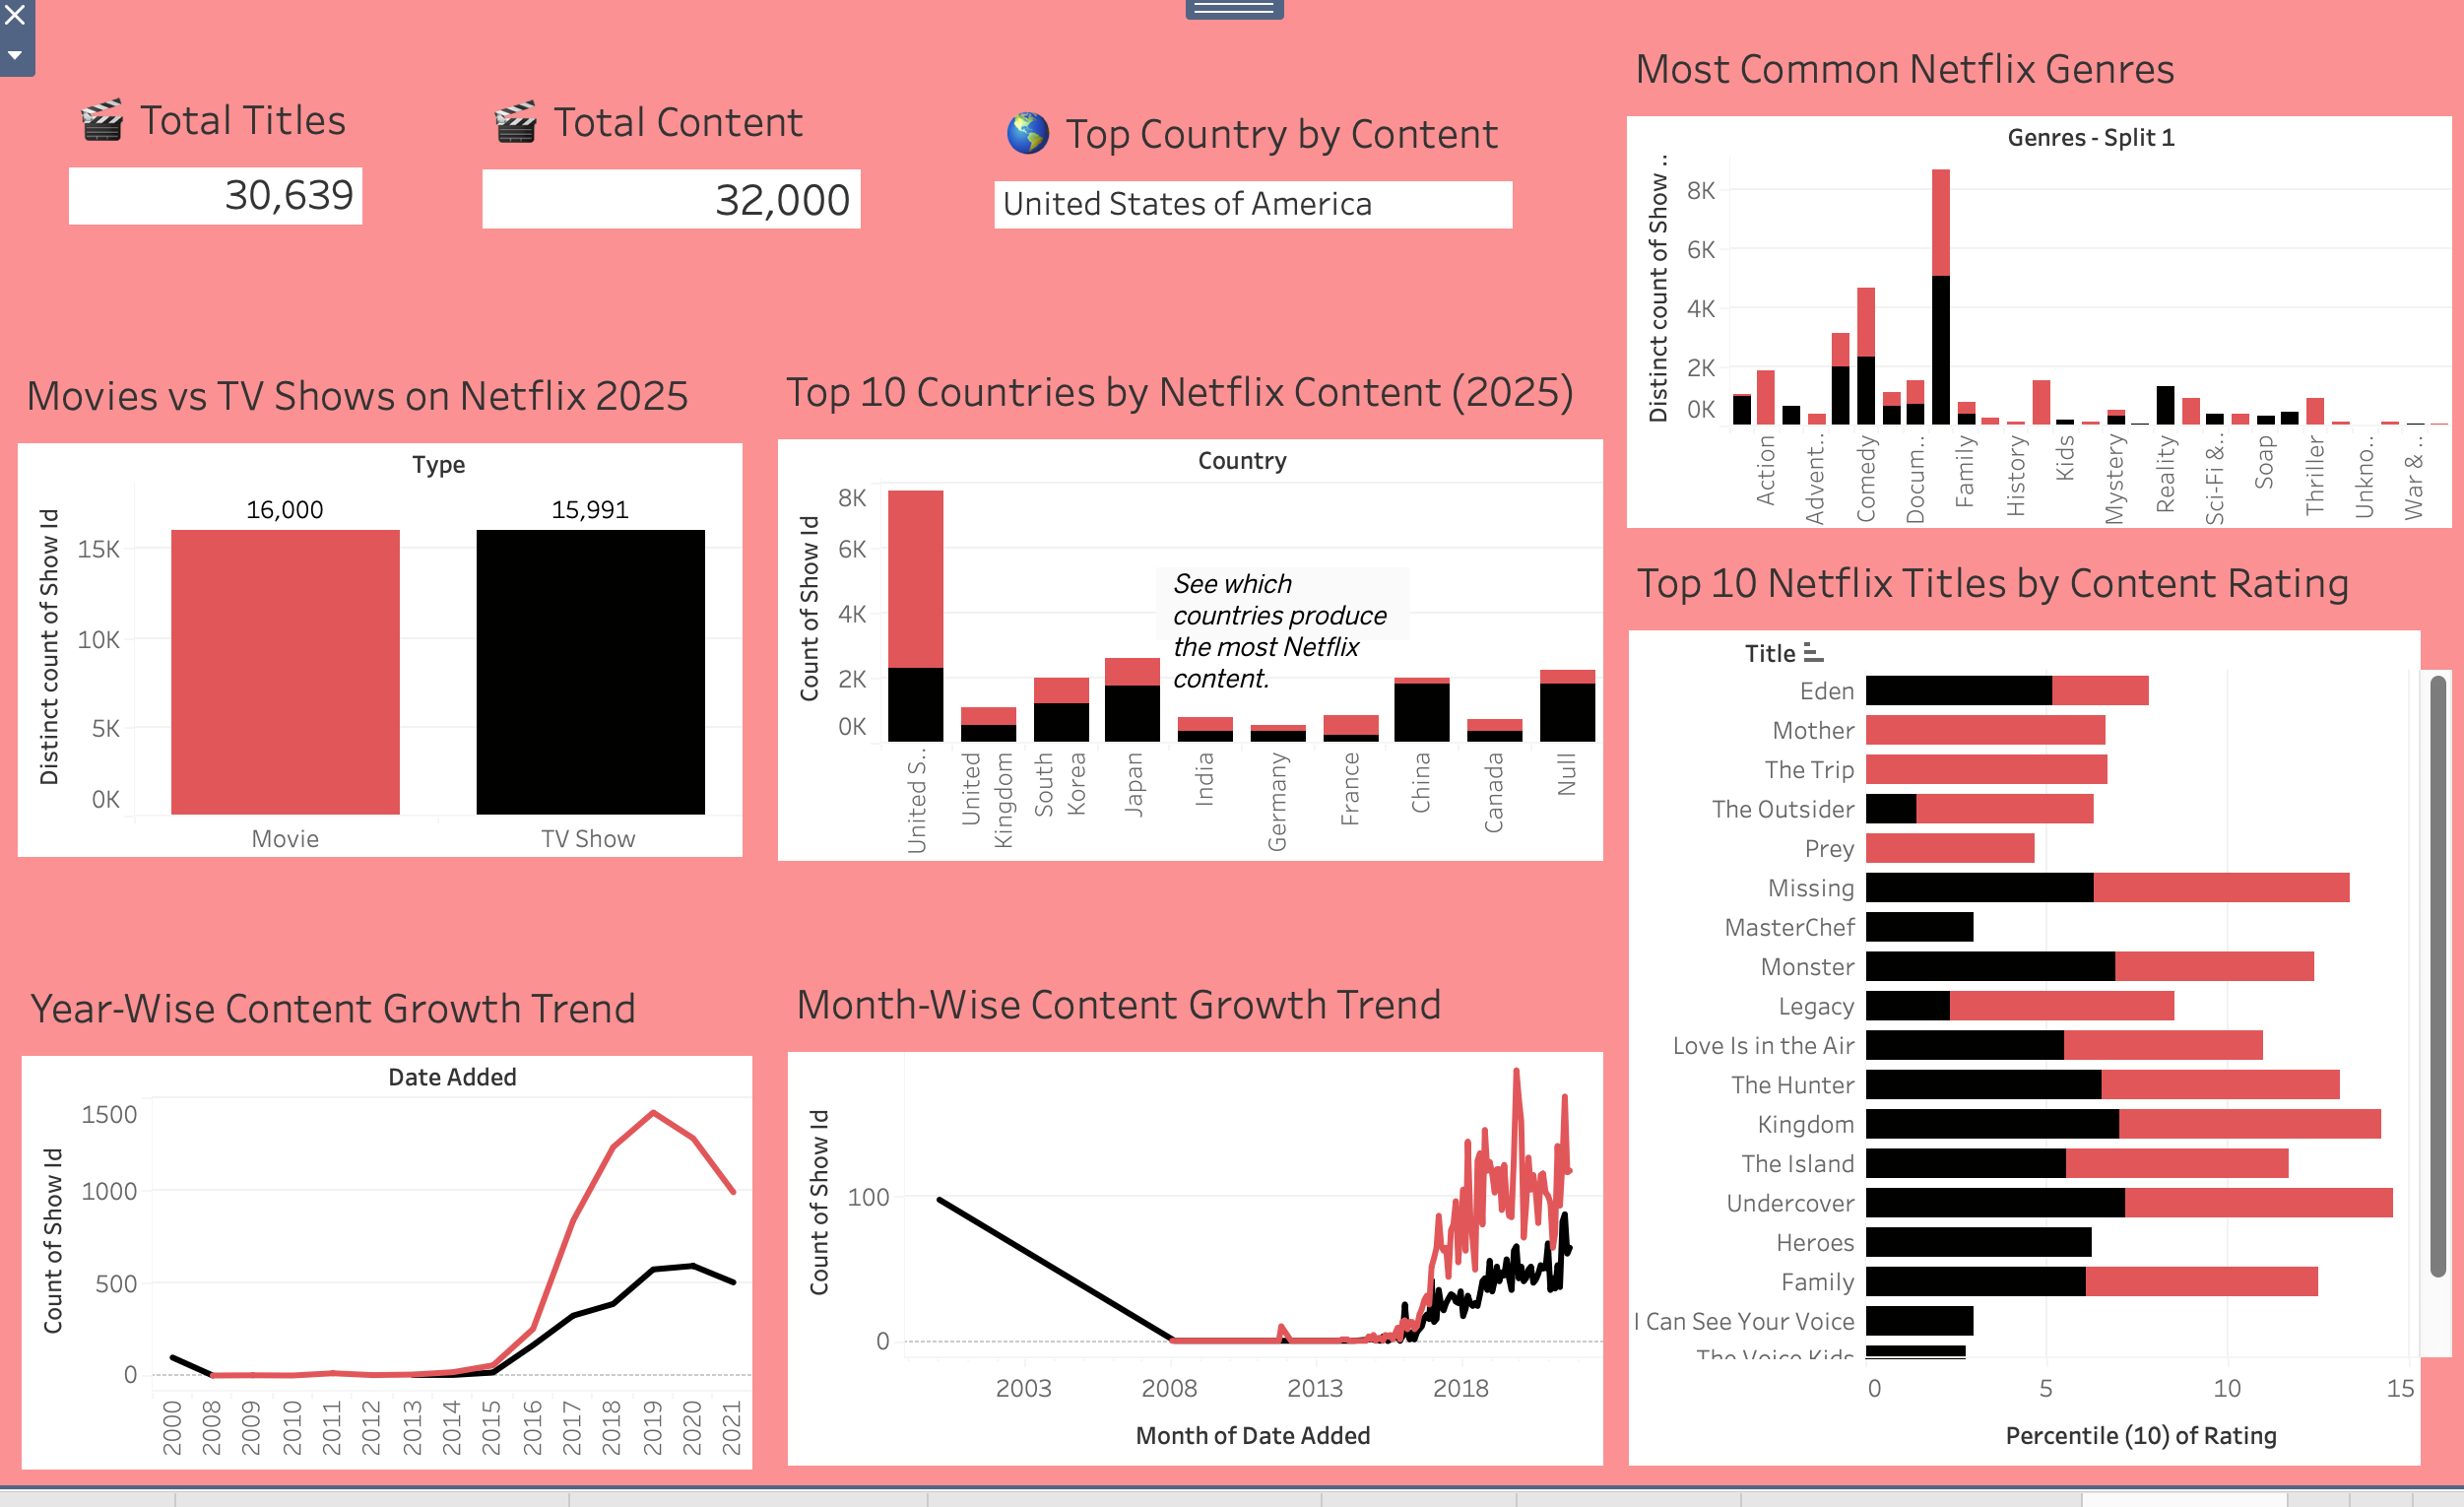

The dashboard page shown, as its layout file describes it:
{"tool":"tableau","page":{"name":"Netflix_Analysis","canvas":[1000,1000],"units":"permille","ordinal":0},"visuals":[{"type":"worksheet","title":"Most Common Netflix Genres","mark":"Bar","rows":["show_id"],"cols":["genres - Split 1"],"box":[657.7,25,332.8,333.3]},{"type":"worksheet","title":"🎬 Total Titles","mark":"Automatic","box":[29.4,59.3,118.4,97.5]},{"type":"worksheet","title":"🎬 Total Content","mark":"Automatic","box":[196.2,60.6,152.5,101.5]},{"type":"worksheet","title":"🌎 Top Country by Content","mark":"Automatic","box":[402.7,68.5,208.9,88.3]},{"type":"worksheet","title":"Top 10 Countries by Netflix Content (2025)","mark":"Automatic","rows":["show_id"],"cols":["country"],"box":[315.3,241.1,332.8,338.6]},{"type":"worksheet","title":"Movies vs TV Shows on Netflix 2025","mark":"Automatic","rows":["show_id"],"cols":["type"],"box":[8.7,243.7,292.3,333.3]},{"type":"worksheet","title":"Top 10 Netflix Titles by Content Rating","mark":"Bar","rows":["title"],"cols":["rating"],"box":[658.5,368.9,332,615.3]},{"type":"worksheet","title":"Month-Wise Content Growth Trend","mark":"Automatic","rows":["show_id"],"cols":["date_added"],"box":[319.3,650.9,328.8,333.3]},{"type":"worksheet","title":"Year-Wise Content Growth Trend ","mark":"Automatic","rows":["show_id"],"cols":["date_added"],"box":[10.3,653.5,294.7,333.3]}]}

Visuals, with their boxes on the dashboard's canvas, which has no fixed pixel size, in thousandths of its width and height (x1, y1, x2, y2). These are canvas units, not pixel positions in the 2464x1507 screenshot, which may show the page scaled, cropped or inside an application window:
"Most Common Netflix Genres" worksheet (Bar marks): <bbox>658, 25, 990, 358</bbox>
"🎬 Total Titles" worksheet: <bbox>29, 59, 148, 157</bbox>
"🎬 Total Content" worksheet: <bbox>196, 61, 349, 162</bbox>
"🌎 Top Country by Content" worksheet: <bbox>403, 68, 612, 157</bbox>
"Top 10 Countries by Netflix Content (2025)" worksheet: <bbox>315, 241, 648, 580</bbox>
"Movies vs TV Shows on Netflix 2025" worksheet: <bbox>9, 244, 301, 577</bbox>
"Top 10 Netflix Titles by Content Rating" worksheet (Bar marks): <bbox>658, 369, 990, 984</bbox>
"Month-Wise Content Growth Trend" worksheet: <bbox>319, 651, 648, 984</bbox>
"Year-Wise Content Growth Trend " worksheet: <bbox>10, 654, 305, 987</bbox>
